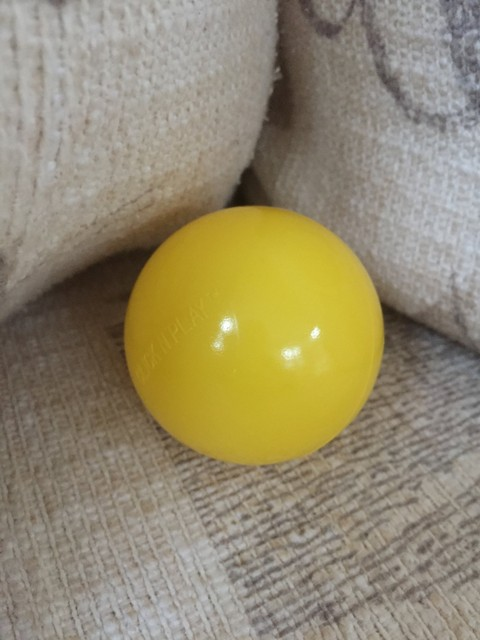ball: (122, 199, 388, 475)
